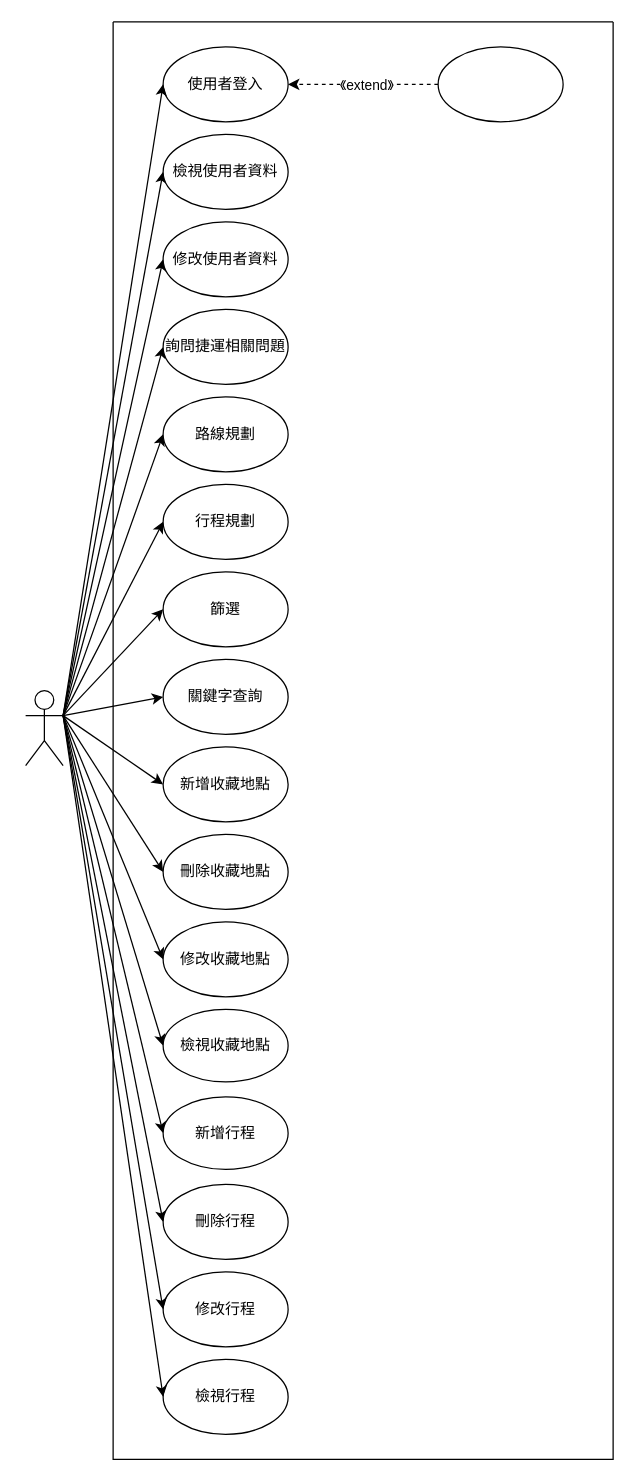
This 635x1481 diagram has some shape labels left out. The shapes that lost their labels are listed below. From the top down, each one's box as (x1, y1, x2, y2) in pixels, then its label:
(437, 46, 563, 122): Google登入驗證
(24, 689, 63, 766): 使用者
